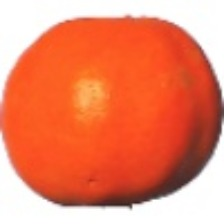tangerine: (0, 1, 186, 188)
